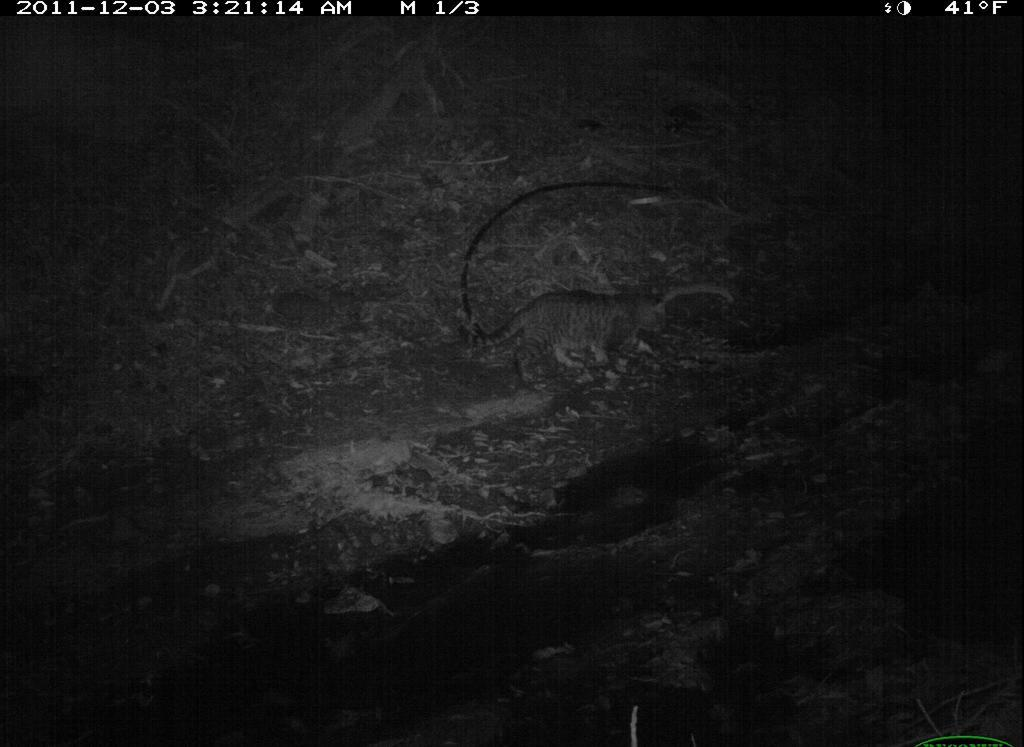cat: (483, 272, 681, 400)
